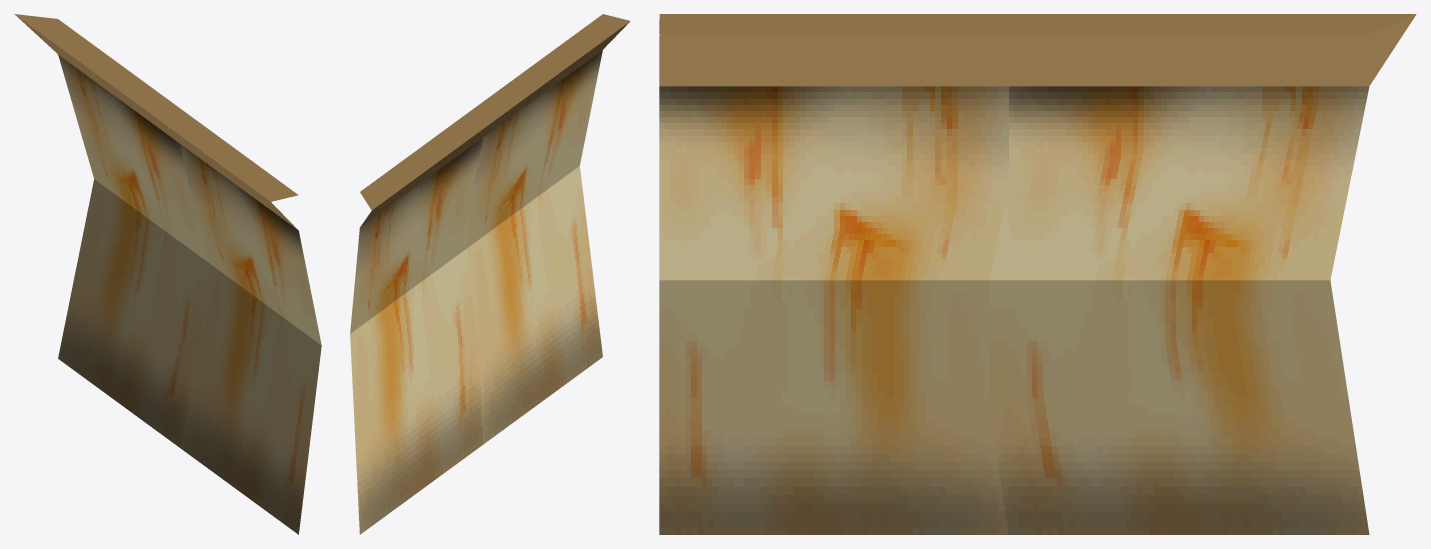
File: W_A2r_xx [Schiff]_2467.glb
The picture shows the model from 3 angles, left to right: view 1: azimuth 30°, elevation 25°; view 2: azimuth 150°, elevation 25°; view 3: azimuth 270°, elevation 25°; orthographic projection. The views are drawn at different scales.
Parts seen in each view (by area): view 1: pPlaneShape1, polySurfaceShape1065; view 2: pPlaneShape1, polySurfaceShape1065; view 3: pPlaneShape1, polySurfaceShape1065.
Part boxes in pixels (box(x1,y1,x2,y2)): pPlaneShape1: box(58, 54, 321, 534); polySurfaceShape1065: box(14, 14, 298, 229); pPlaneShape1: box(350, 50, 602, 534); polySurfaceShape1065: box(360, 14, 630, 227); pPlaneShape1: box(659, 86, 1369, 534); polySurfaceShape1065: box(659, 14, 1416, 86).
Bounding box in the file's own units: 0.0607 × 0.3891 × 0.5333.
Materials: 2 (2 with a texture image).
